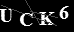6: (58, 5, 70, 20)
C: (18, 12, 34, 27)
K: (38, 11, 57, 26)
U: (1, 8, 14, 23)
